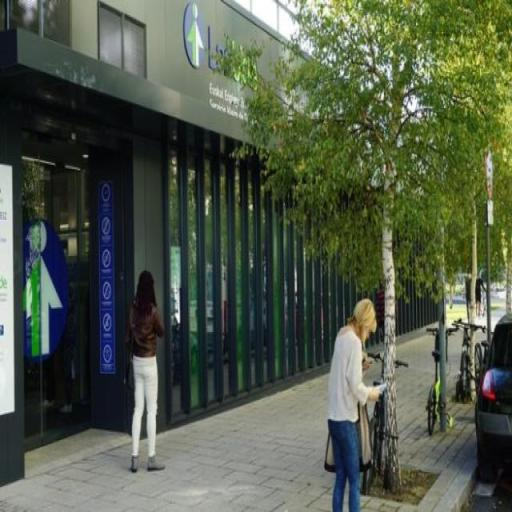person: (330, 297, 387, 512), (126, 271, 167, 473)
